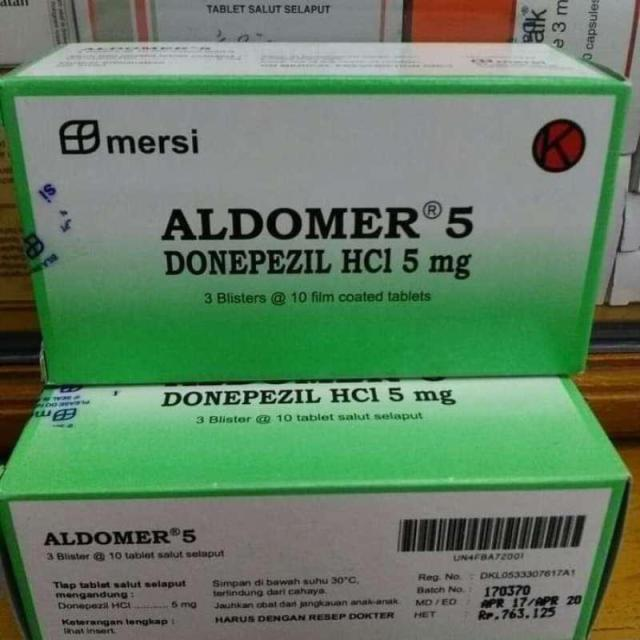drug-name: (160, 195, 476, 242)
